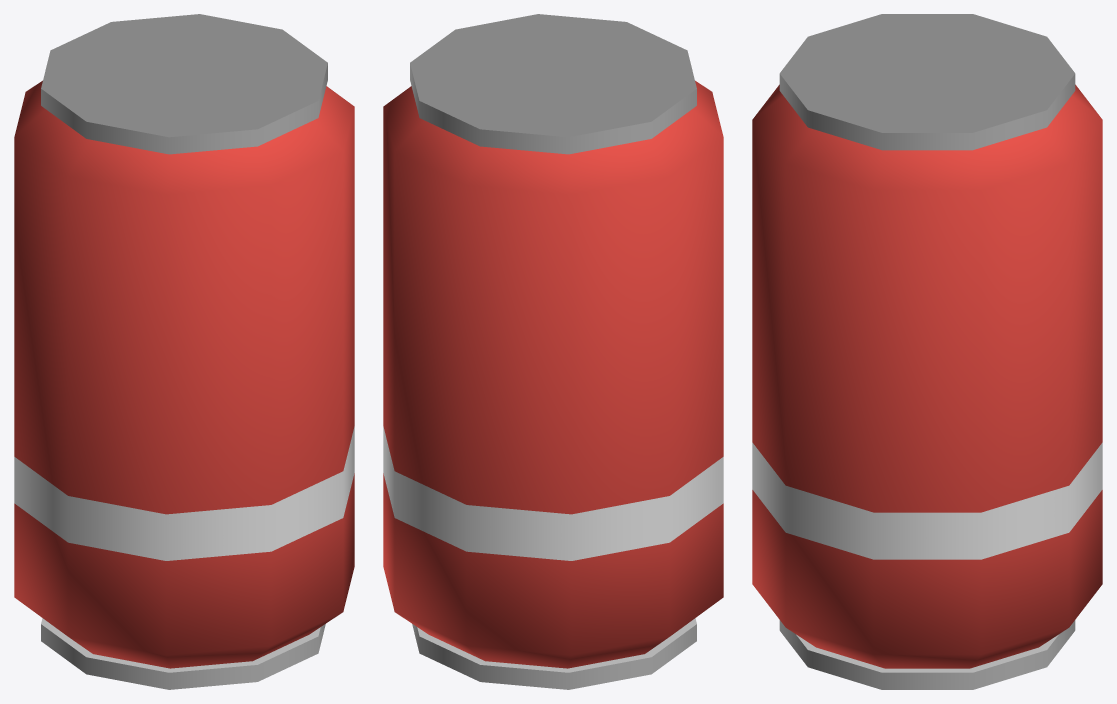
Rendered from can.glb.
The picture shows the model from 3 angles, left to right: view 1: azimuth 30°, elevation 25°; view 2: azimuth 150°, elevation 25°; view 3: azimuth 270°, elevation 25°; orthographic projection.
Parts seen in each view (by area): view 1: can; view 2: can; view 3: can.
Part boxes in pixels (x1,y1,x2,y2): can: (14, 14, 354, 689); can: (383, 14, 723, 689); can: (752, 14, 1102, 689).
Bounding box in the file's own units: 0.1614 × 0.2976 × 0.1697.
